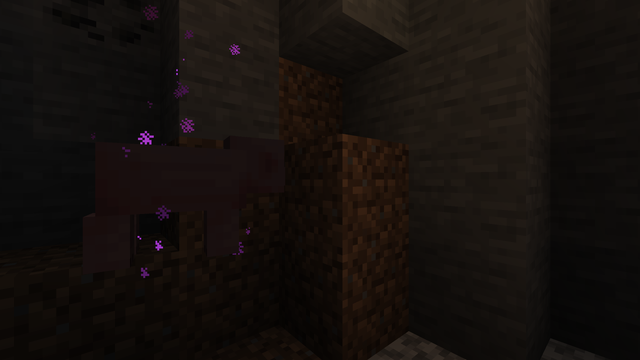cochons: (111, 135, 249, 279)
